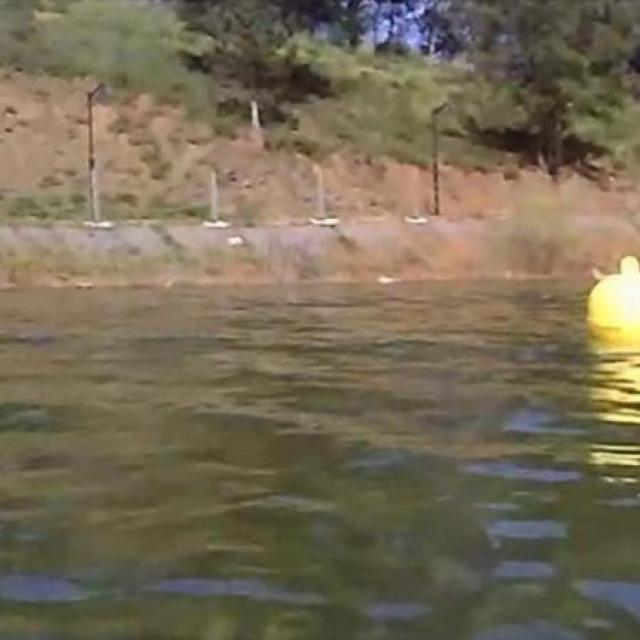buoy: (581, 253, 640, 348)
